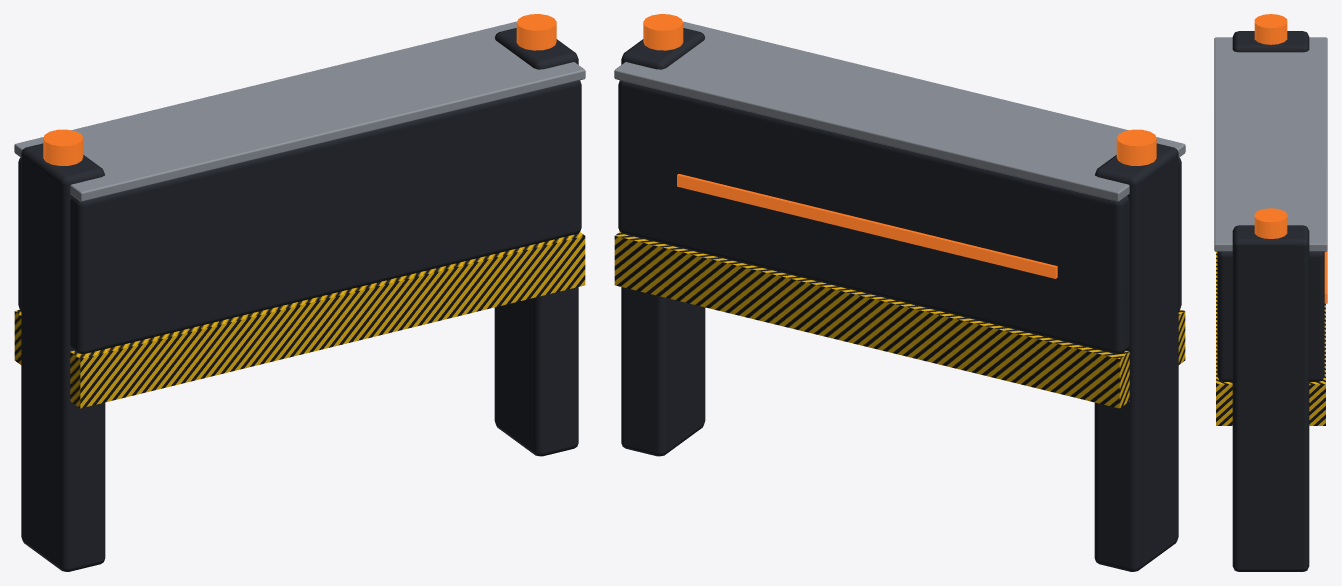
Rendered from obstacle_beam.glb.
3 renders of one model, left to right at view 1: azimuth 30°, elevation 25°; view 2: azimuth 150°, elevation 25°; view 3: azimuth 270°, elevation 25°, orthographic. The views are drawn at different scales.
Parts seen in each view (by area): view 1: LowBeam; view 2: LowBeam; view 3: LowBeam.
Part boxes in pixels (x1,y1,x2,y2): LowBeam: [14, 14, 585, 571]; LowBeam: [614, 14, 1185, 571]; LowBeam: [1214, 14, 1327, 571].
Bounding box in the file's own units: 3.28 × 2.52 × 0.74.
Materials: 3 (1 with a texture image).
